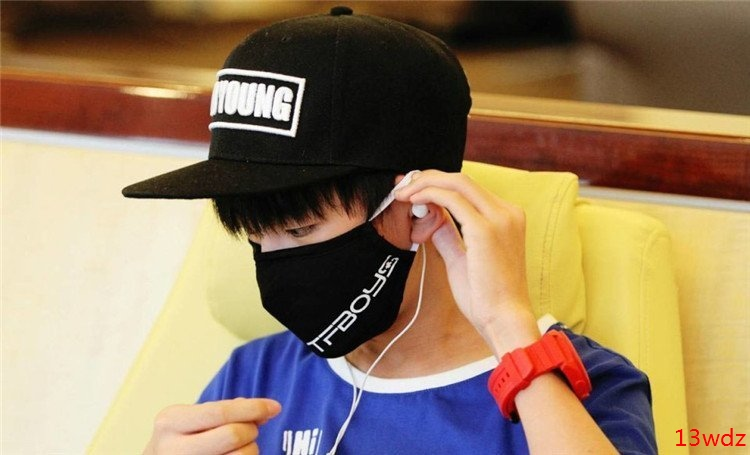face_mask: (233, 184, 407, 362)
